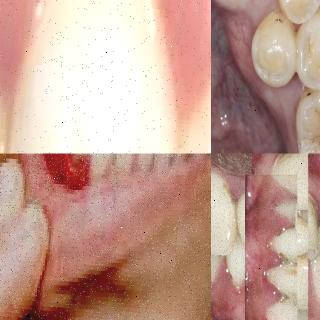Gum Swelling: (211, 259, 245, 312), (44, 154, 88, 190)
calculus: (211, 178, 239, 244), (266, 226, 296, 263), (271, 190, 299, 222), (305, 191, 320, 250), (269, 154, 305, 178), (268, 282, 296, 310), (225, 256, 243, 294), (211, 256, 219, 296)
maligned: (242, 12, 308, 94)
